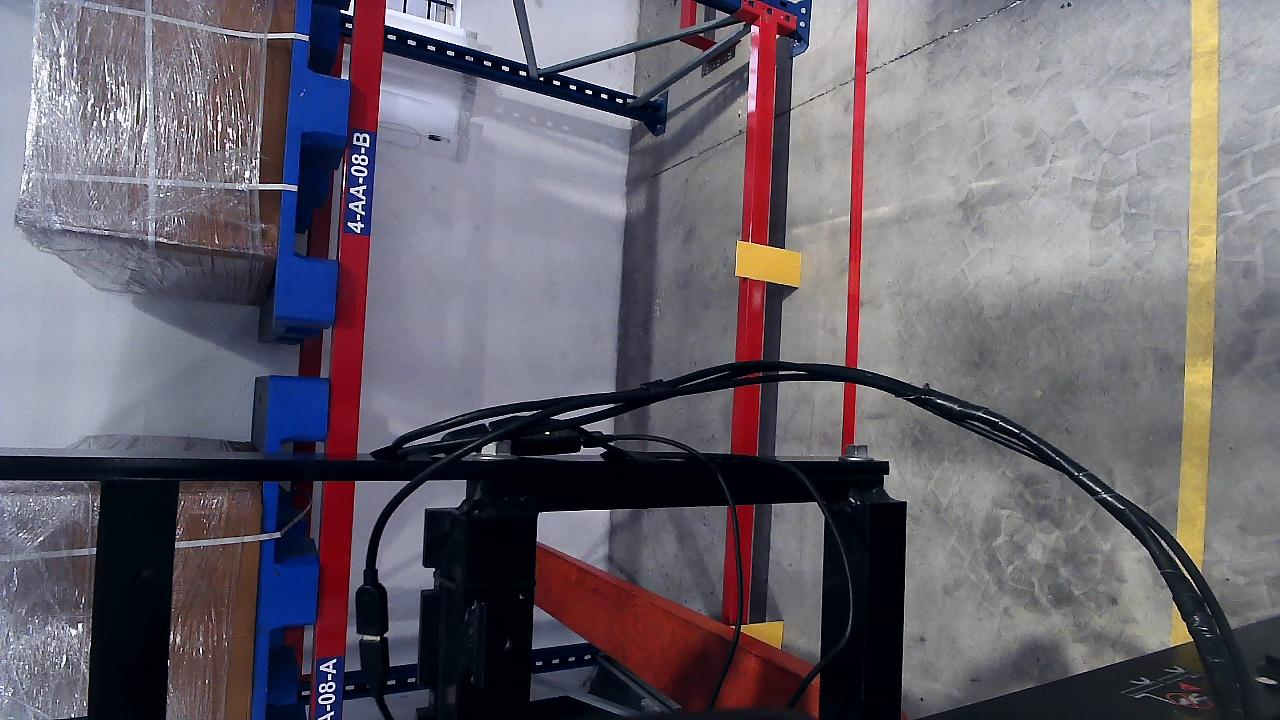h_rack: (325, 0, 390, 720), (722, 16, 780, 626)
orange_strip: (735, 241, 801, 287), (740, 621, 783, 647)
red_line: (835, 3, 868, 462)
small_pallet: (270, 0, 367, 323), (253, 378, 336, 720)
yellow_line: (1174, 1, 1221, 706)
